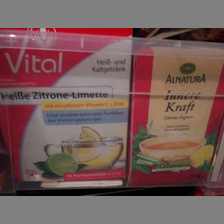tea: (1, 28, 132, 186), (130, 41, 224, 187)
